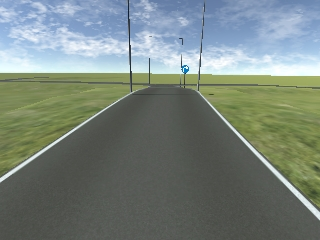right: (180, 65, 190, 74)
